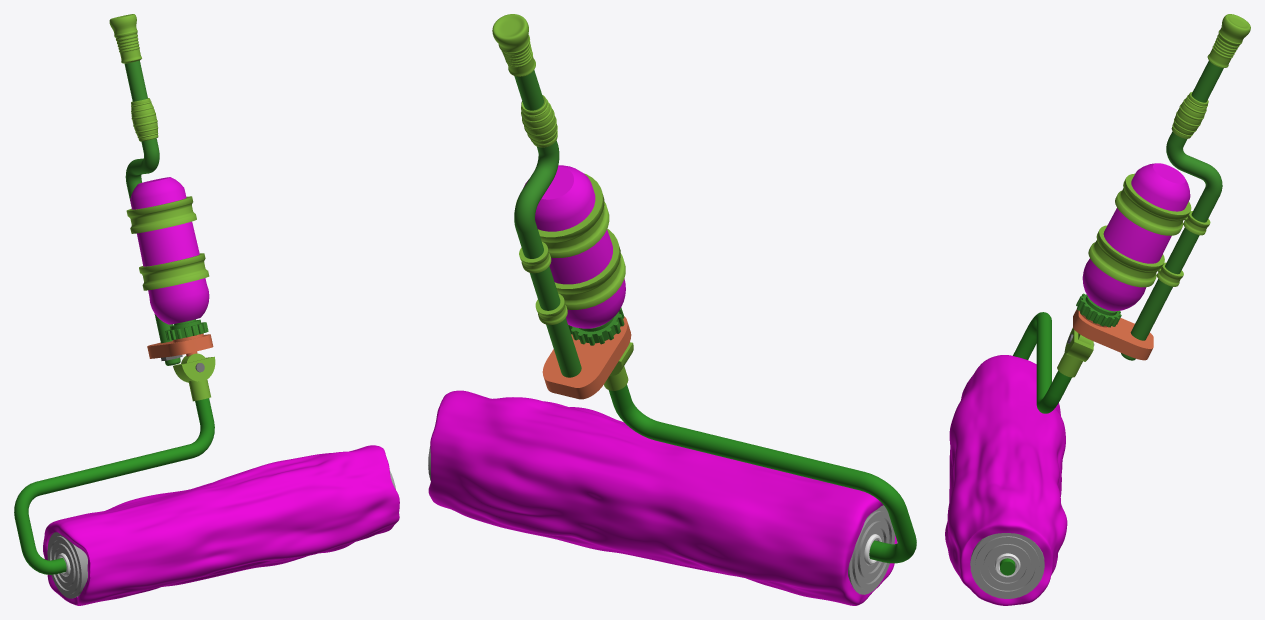
Rendered from Splat.fbx.
The picture shows the model from 3 angles, left to right: view 1: azimuth 30°, elevation 25°; view 2: azimuth 150°, elevation 25°; view 3: azimuth 270°, elevation 25°; orthographic projection. The views are drawn at different scales.
Visible parts, largest first — view 1: Cylinder.019, Sphere, Plane.002, Plane.003, Cylinder.004, Cylinder.009, Cylinder.008, Cylinder, Cylinder.002, Cube, Cylinder.001, Cylinder.017; view 2: Cylinder.019, Plane.002, Sphere, Plane.003, Cube, Cylinder.004, Cylinder.009, Cylinder.008, Cylinder, Cylinder.002, Cylinder.001; view 3: Cylinder.019, Sphere, Plane.003, Cylinder.004, Plane.002, Cylinder.009, Cylinder.008, Cube, Cylinder, Cylinder.002, Cylinder.001, Cylinder.017.
Boxes of the visible parts, x1,y1,x2,y2 form: Cylinder.019: [43, 445, 399, 605]; Sphere: [130, 177, 209, 325]; Plane.002: [14, 379, 214, 574]; Plane.003: [124, 60, 180, 365]; Cylinder.004: [47, 470, 395, 598]; Cylinder.009: [126, 196, 196, 233]; Cylinder.008: [139, 253, 209, 290]; Cylinder: [109, 14, 141, 63]; Cylinder.002: [131, 98, 158, 141]; Cube: [147, 334, 213, 358]; Cylinder.001: [165, 319, 208, 356]; Cylinder.017: [173, 356, 215, 382]; Cylinder.019: [428, 390, 897, 605]; Plane.002: [604, 366, 916, 563]; Sphere: [523, 165, 625, 328]; Plane.003: [514, 70, 581, 377]; Cube: [542, 316, 631, 399]; Cylinder.004: [428, 446, 895, 594]; Cylinder.009: [515, 173, 609, 257]; Cylinder.008: [554, 229, 625, 309]; Cylinder: [492, 14, 535, 76]; Cylinder.002: [521, 95, 557, 147]; Cylinder.001: [568, 307, 624, 345]; Cylinder.019: [945, 355, 1067, 605]; Sphere: [1082, 163, 1190, 311]; Plane.003: [1121, 61, 1223, 360]; Cylinder.004: [970, 533, 1044, 598]; Plane.002: [1000, 312, 1082, 575]; Cylinder.009: [1115, 173, 1191, 235]; Cylinder.008: [1088, 225, 1164, 287]; Cube: [1073, 309, 1153, 360]; Cylinder: [1207, 14, 1250, 67]; Cylinder.002: [1171, 92, 1208, 138]; Cylinder.001: [1076, 293, 1121, 327]; Cylinder.017: [1064, 328, 1093, 361].
Size of the model in its own units: 7144 by 9125 by 4884.
